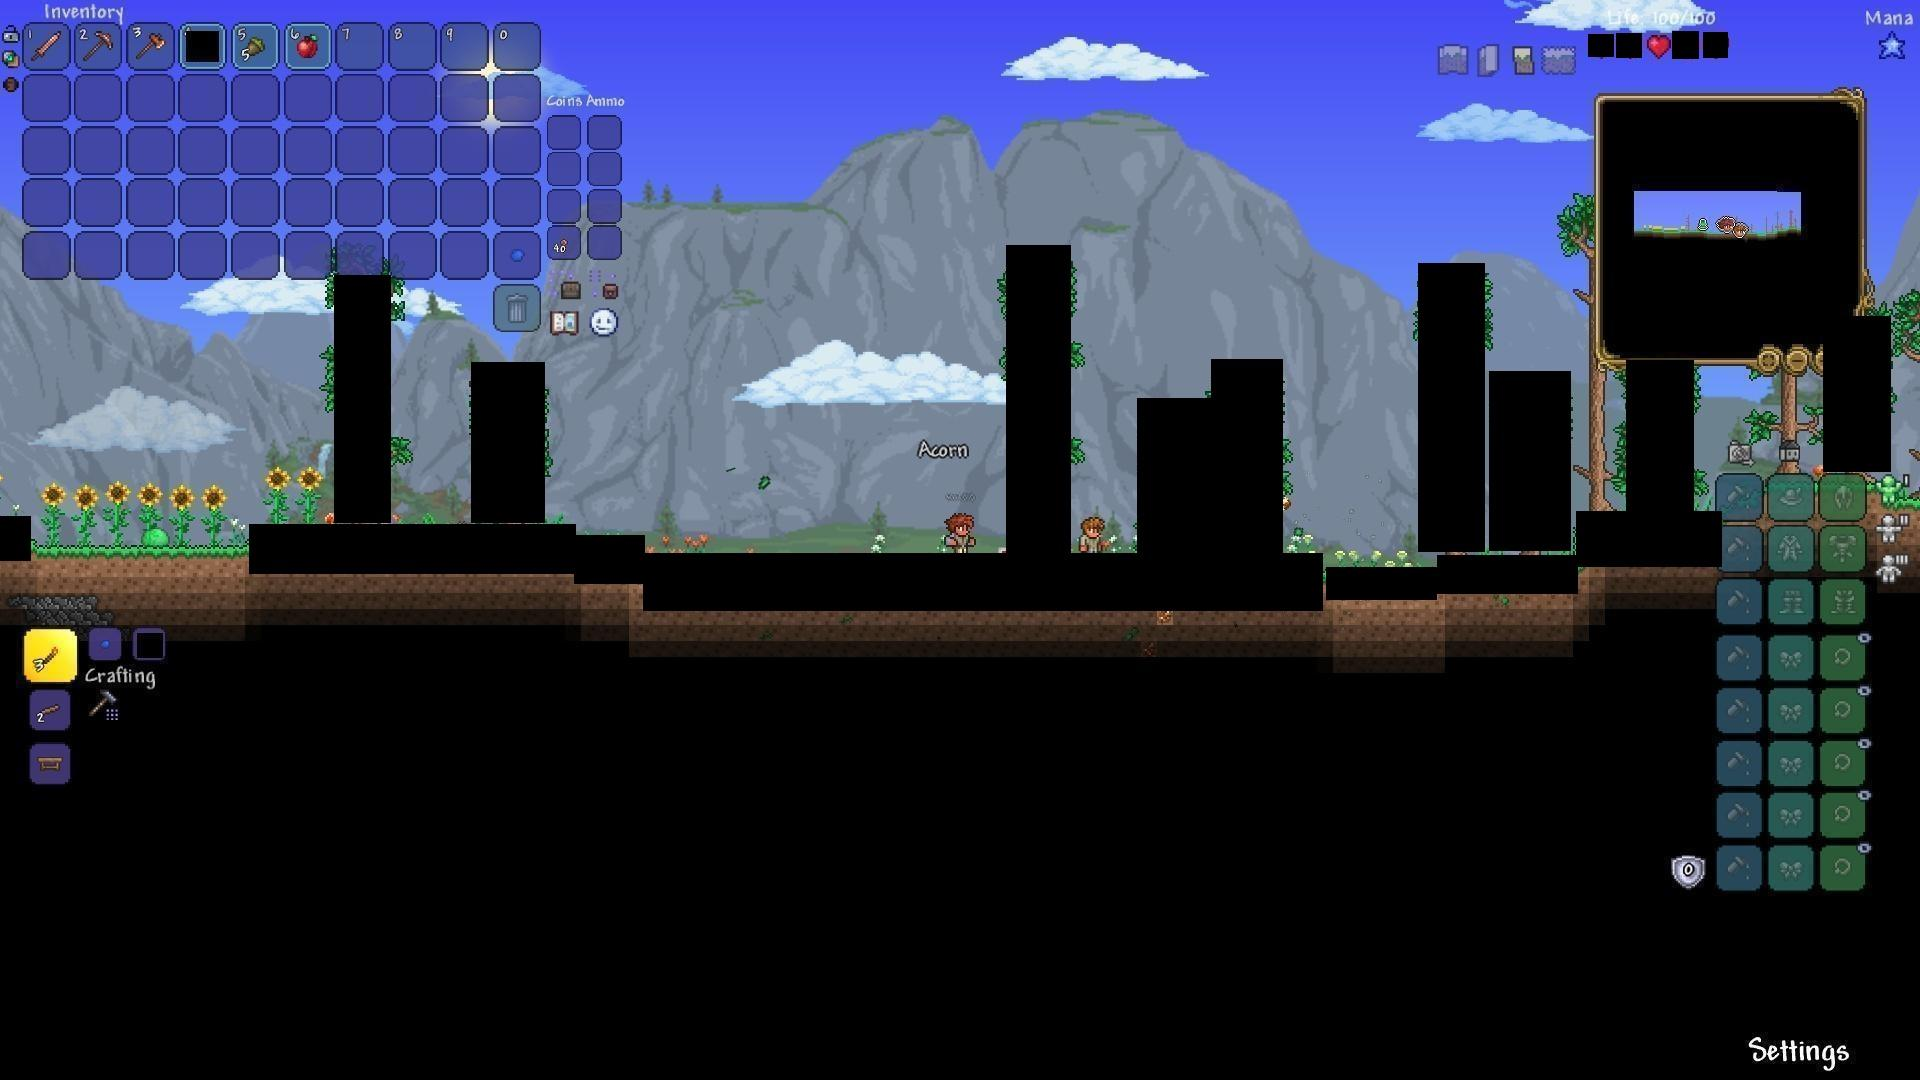dirt: (36, 545, 245, 595)
heart: (1644, 32, 1671, 59)
slime: (144, 527, 170, 550)
tree: (1756, 368, 1822, 477), (1582, 359, 1615, 509)
workbench: (32, 750, 69, 775)
